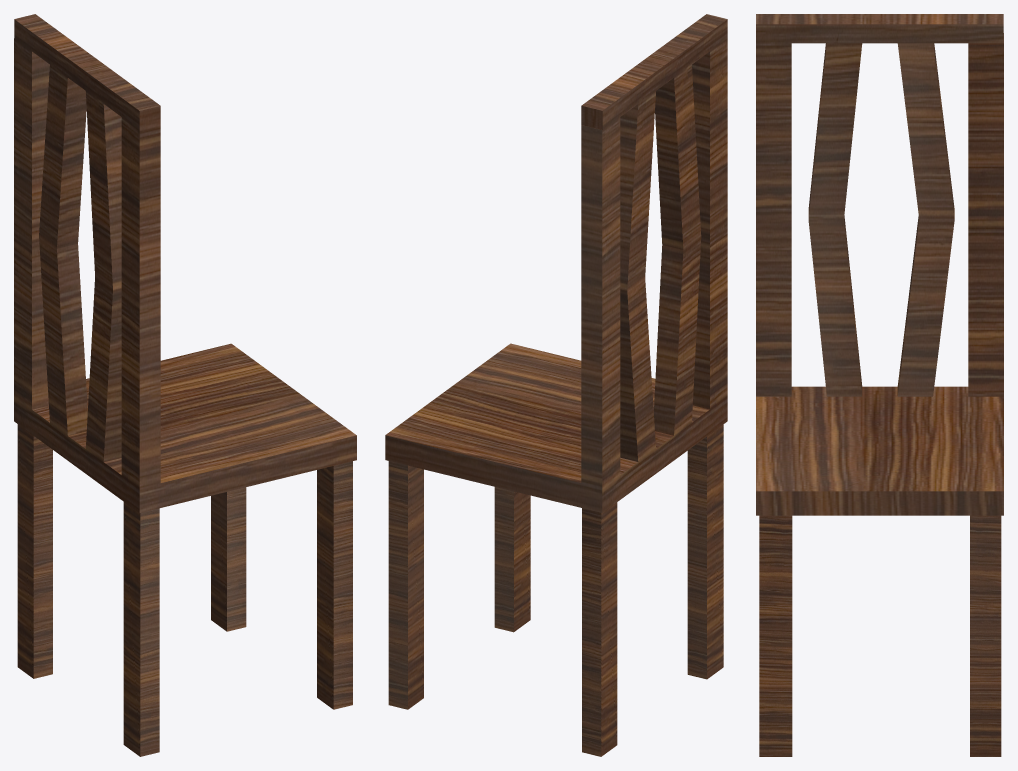
Rendered from chair.obj.
3 views of the same model, side by side, from view 1: azimuth 30°, elevation 25°; view 2: azimuth 150°, elevation 25°; view 3: azimuth 270°, elevation 25° (orthographic).
Parts seen in each view (by area): view 1: Cube, Cube.001; view 2: Cube, Cube.001; view 3: Cube, Cube.001.
Part boxes in pixels (<box>): Cube: <box>14,14,356,513</box>; Cube.001: <box>17,424,352,756</box>; Cube: <box>385,14,727,512</box>; Cube.001: <box>388,424,723,756</box>; Cube: <box>756,14,1003,515</box>; Cube.001: <box>759,515,1001,756</box>.
Bounding box in the file's own units: 2 × 5.7 × 2.
